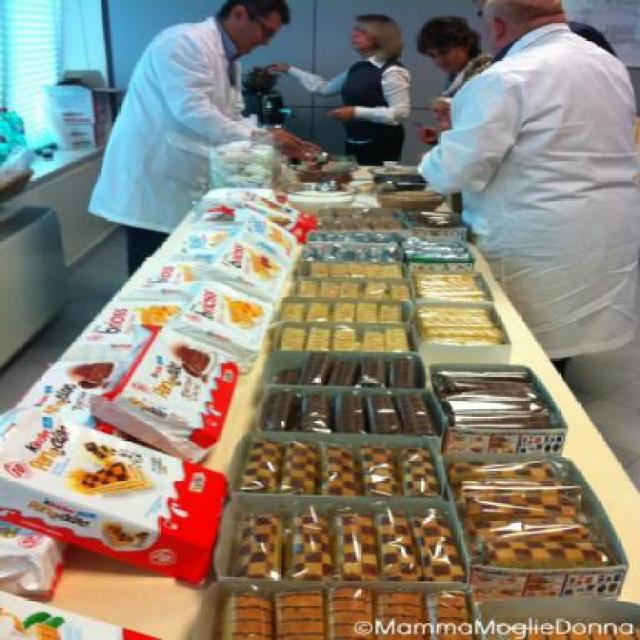Merendine: (2, 410, 230, 590), (90, 323, 241, 468), (172, 280, 280, 378), (212, 184, 324, 241), (205, 234, 289, 303), (120, 258, 208, 300)
Merendine packaged: (483, 540, 620, 572), (408, 304, 504, 348), (477, 515, 600, 543), (451, 456, 563, 484), (238, 512, 284, 580), (336, 512, 384, 576), (464, 492, 582, 518), (412, 512, 454, 580), (291, 514, 337, 576), (322, 586, 374, 638), (243, 436, 280, 492), (396, 444, 438, 493), (273, 592, 322, 634), (324, 438, 362, 491), (357, 441, 395, 493), (234, 592, 274, 640), (378, 513, 408, 576), (362, 389, 404, 433), (259, 387, 296, 435), (286, 439, 317, 495), (375, 588, 417, 618), (430, 592, 466, 623), (308, 324, 332, 356), (282, 322, 304, 356)
